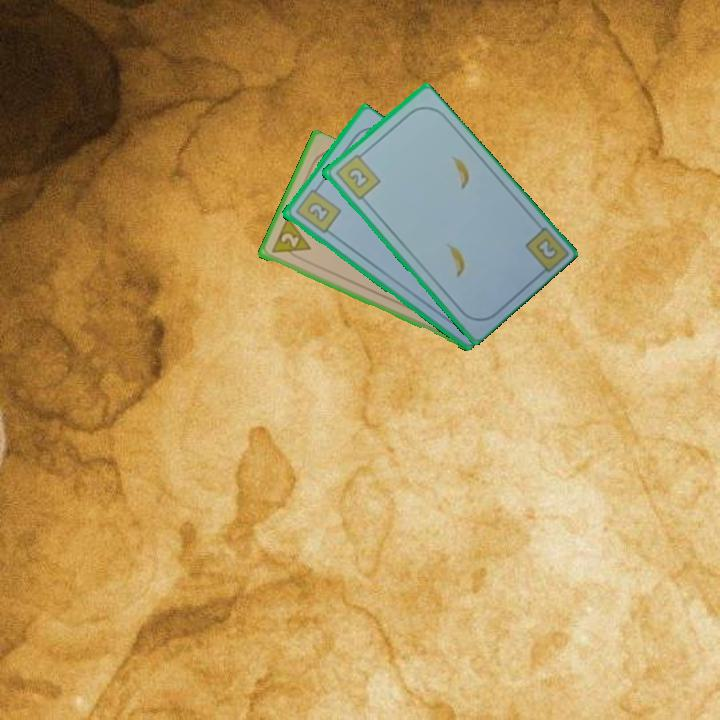2b: (291, 182, 343, 236), (331, 148, 383, 202), (532, 234, 560, 263)
2p: (267, 215, 313, 263)
